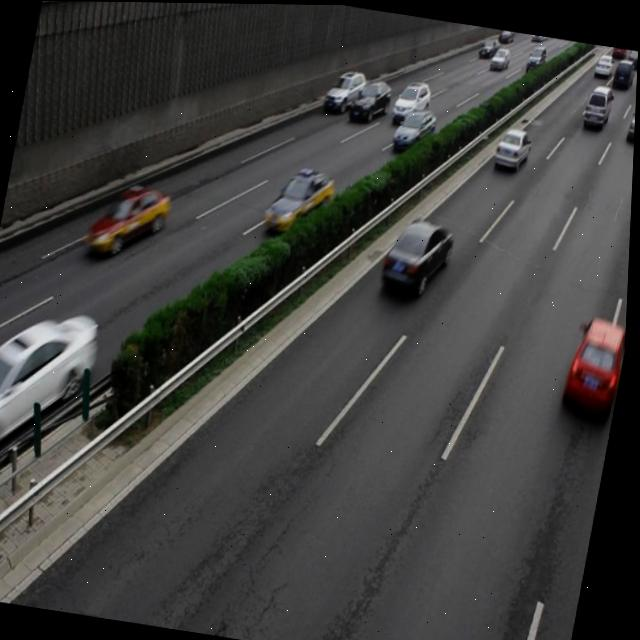car: (0, 299, 105, 472), (85, 177, 174, 264), (561, 311, 629, 419), (379, 212, 458, 300), (262, 161, 338, 237), (347, 74, 395, 126), (322, 64, 369, 114), (492, 123, 534, 174), (393, 106, 438, 152)
